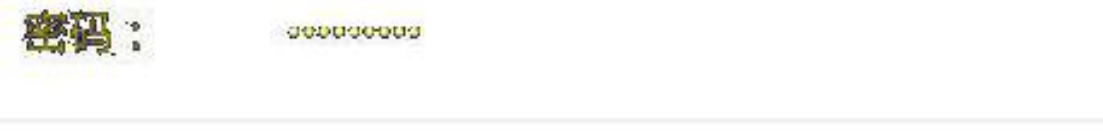EditText: (1, 1, 1102, 139)
